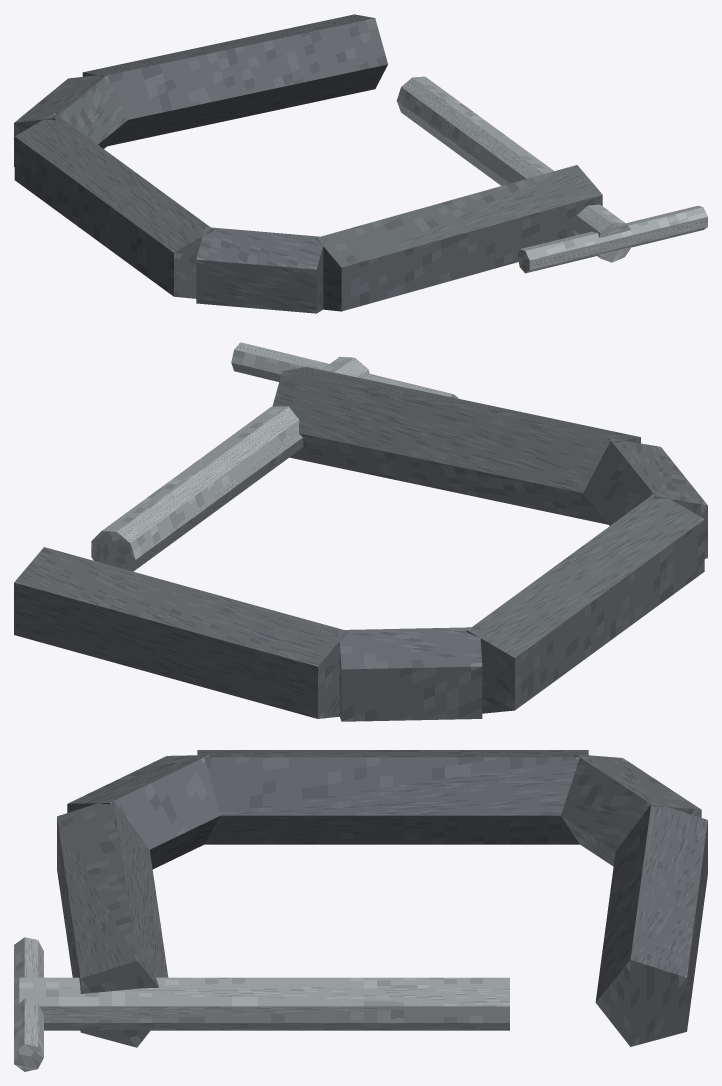
The model's file is clamp.glb.
The picture shows the model from 3 angles, top to bottom: view 1: azimuth 30°, elevation 25°; view 2: azimuth 150°, elevation 25°; view 3: azimuth 270°, elevation 25°; orthographic projection. The views are drawn at different scales.
Parts seen in each view (by area): view 1: block_C frame 0, block_C frame 4, block_C frame 2, block_C frame 3, block_threaded screw, block_sliding T handle, block_C frame 1; view 2: block_C frame 0, block_C frame 4, block_C frame 2, block_C frame 1, block_threaded screw, block_C frame 3, block_sliding T handle; view 3: block_C frame 2, block_threaded screw, block_C frame 0, block_C frame 4, block_C frame 3, block_C frame 1, block_sliding T handle.
Boxes of the visible parts, x1=… form: block_C frame 0: x1=82, y1=14, x2=387, y2=146; block_C frame 4: x1=316, y1=165, x2=602, y2=311; block_C frame 2: x1=14, y1=113, x2=214, y2=298; block_C frame 3: x1=196, y1=227, x2=325, y2=313; block_threaded screw: x1=396, y1=76, x2=631, y2=262; block_sliding T handle: x1=517, y1=205, x2=707, y2=273; block_C frame 1: x1=14, y1=74, x2=127, y2=166; block_C frame 0: x1=14, y1=547, x2=347, y2=718; block_C frame 4: x1=272, y1=366, x2=640, y2=524; block_C frame 2: x1=466, y1=491, x2=704, y2=713; block_C frame 1: x1=339, y1=627, x2=482, y2=721; block_threaded screw: x1=91, y1=356, x2=369, y2=571; block_C frame 3: x1=583, y1=438, x2=707, y2=558; block_sliding T handle: x1=231, y1=342, x2=458, y2=398; block_C frame 2: x1=197, y1=750, x2=588, y2=844; block_threaded screw: x1=19, y1=977, x2=509, y2=1030; block_C frame 0: x1=595, y1=802, x2=707, y2=1046; block_C frame 4: x1=57, y1=798, x2=168, y2=1047; block_C frame 3: x1=67, y1=755, x2=220, y2=869; block_C frame 1: x1=561, y1=754, x2=701, y2=866; block_sliding T handle: x1=14, y1=937, x2=43, y2=1071.
Bounding box in the file's own units: 0.2075 × 0.0307 × 0.2209.
1 material, 1 textured.
